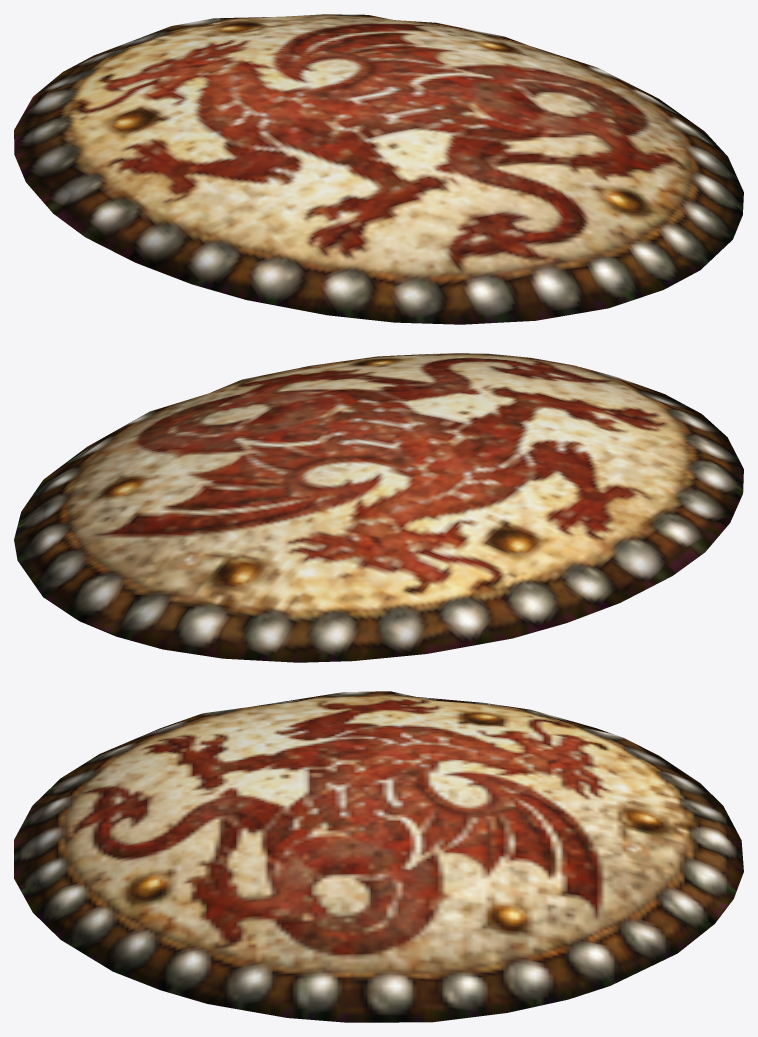
The model's file is item_6sshield6.glb.
3 views of the same model, one above another, from view 1: azimuth 30°, elevation 25°; view 2: azimuth 150°, elevation 25°; view 3: azimuth 270°, elevation 25° (orthographic). The views are drawn at different scales.
Visible parts, largest first — view 1: 6sshield6; view 2: 6sshield6; view 3: 6sshield6.
Boxes of the visible parts, x1,y1,x2,y2 form: 6sshield6: (14,14,743,324); 6sshield6: (14,353,743,662); 6sshield6: (14,691,743,1022).
Size of the model in its own units: 1.43 by 0.2146 by 1.56.
Materials: 1 (1 with a texture image).
